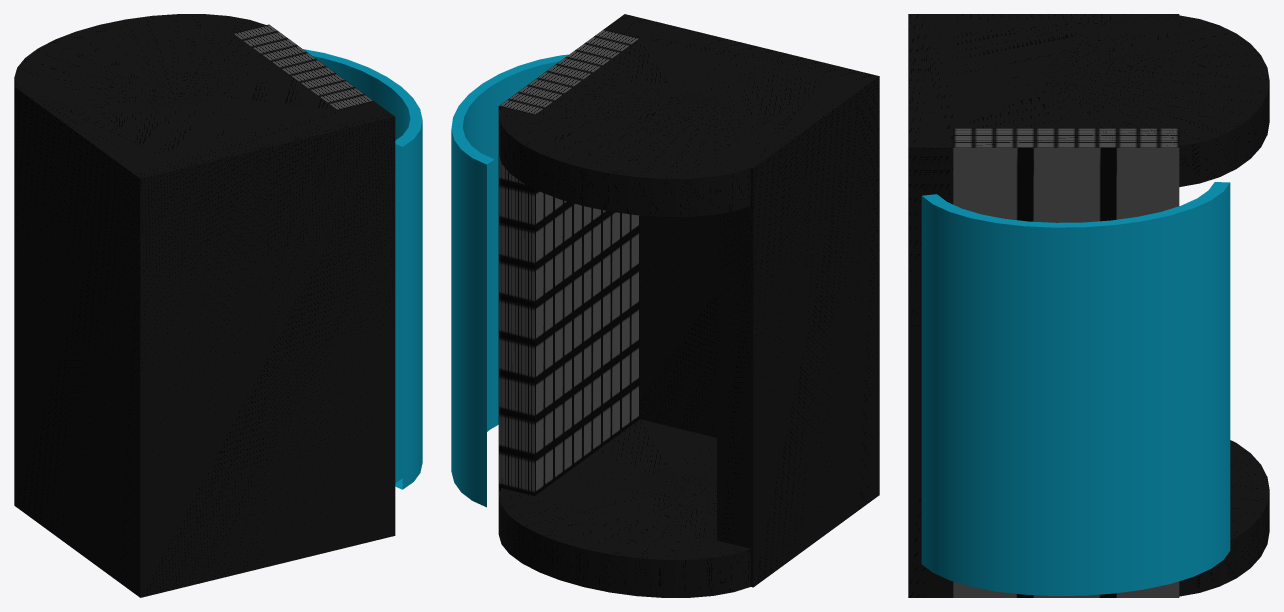
The model's file is Koelkast_Deur_animatie_2.fbx.
3 views of the same model, side by side, from view 1: azimuth 30°, elevation 25°; view 2: azimuth 150°, elevation 25°; view 3: azimuth 270°, elevation 25° (orthographic). The views are drawn at different scales.
Visible parts, largest first — view 1: Left_wall, Cylinder; view 2: Left_wall, Cylinder; view 3: Cylinder, Left_wall.
Part boxes in pixels (bbox=[...]): Left_wall: bbox=[14, 14, 395, 597]; Cylinder: bbox=[303, 49, 422, 489]; Left_wall: bbox=[498, 14, 879, 597]; Cylinder: bbox=[451, 54, 568, 507]; Cylinder: bbox=[921, 182, 1230, 595]; Left_wall: bbox=[908, 14, 1269, 597].
Bounding box in the file's own units: 3.62 × 4.4 × 3.2.
